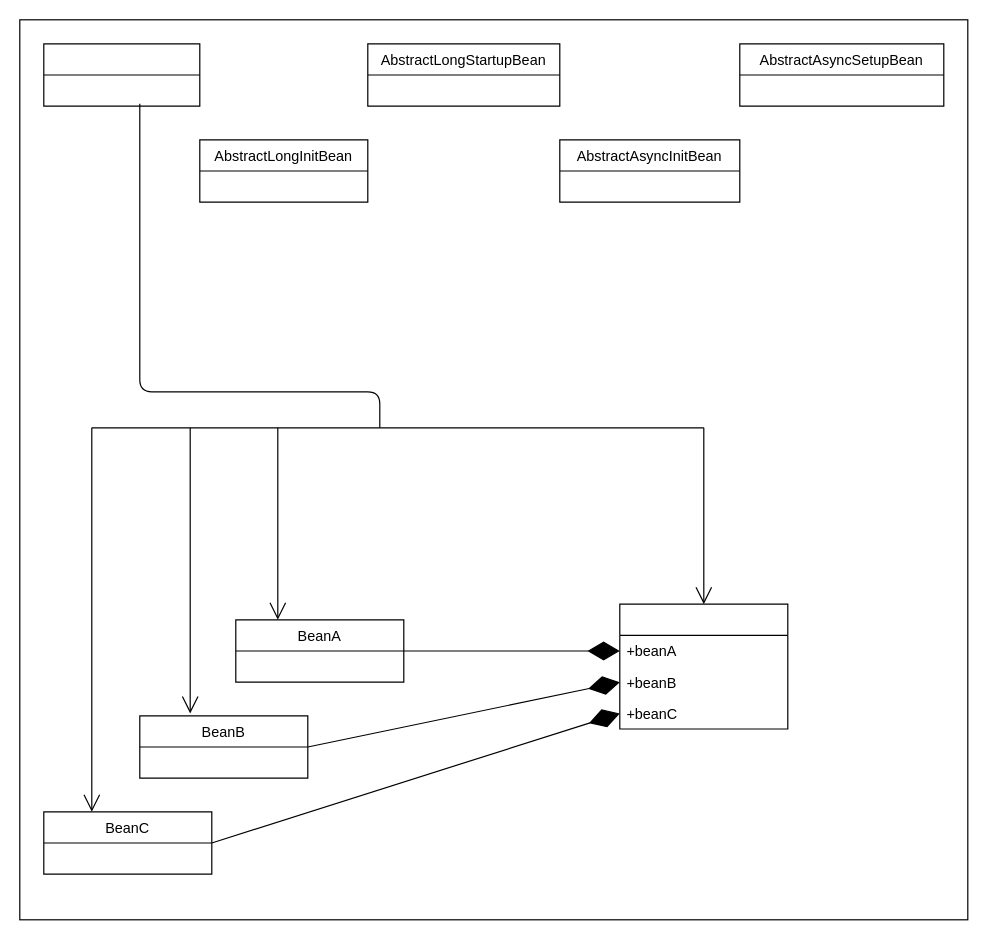
Image size: 988x940. Some labels were removed from this diagram. The shapes that lost their labels are listed below. From the top down, each one's box as (x1, y1, x2, y2) in pixels, then its label:
(43, 43, 200, 106): AbstractBasicBean
(619, 603, 788, 729): Container
